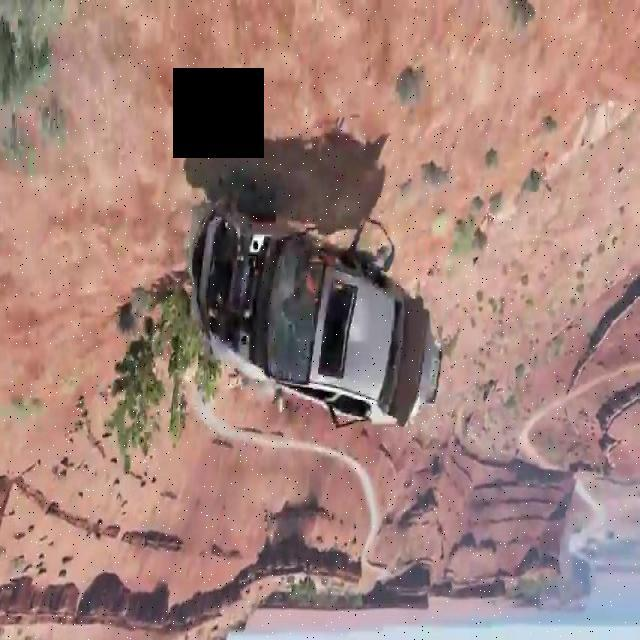severe: (185, 198, 445, 442)
